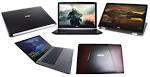laptop: (11, 37, 72, 71), (54, 2, 100, 36), (76, 40, 122, 73), (0, 6, 56, 33), (102, 3, 143, 36)
